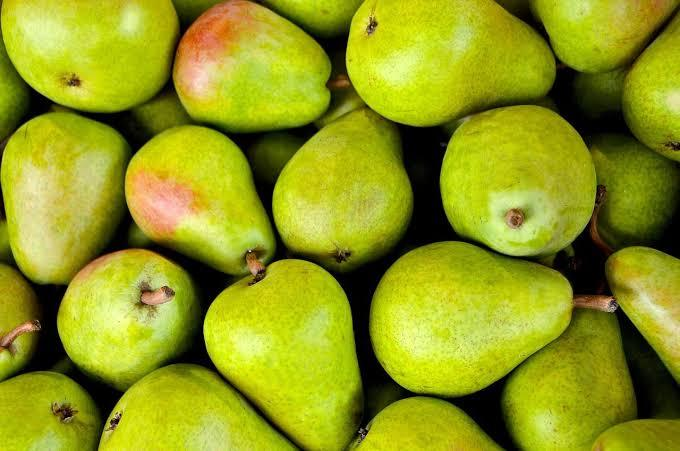Pear Unripe: (281, 104, 463, 308)
